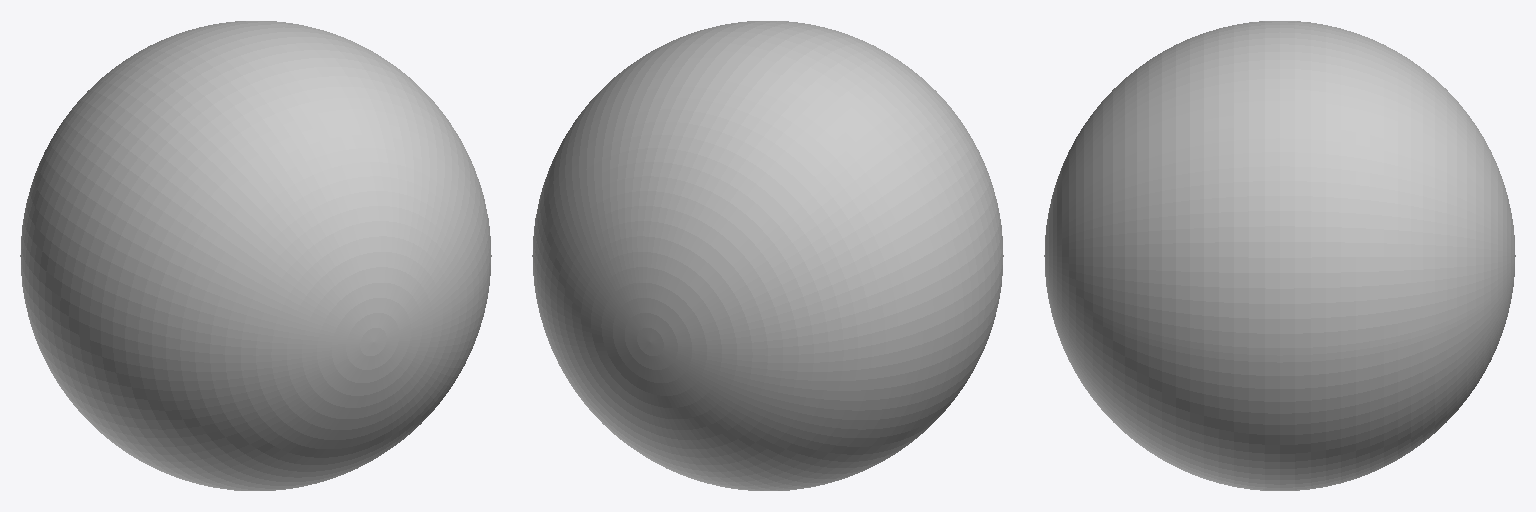
The model's file is tmpcharacter.obj.
3 renders of one model, left to right at view 1: azimuth 30°, elevation 25°; view 2: azimuth 150°, elevation 25°; view 3: azimuth 270°, elevation 25°, orthographic.
Parts seen in each view (by area): view 1: MeshBody1; view 2: MeshBody1; view 3: MeshBody1.
Boxes of the visible parts, box(x1,y1,x2,y2) form: MeshBody1: box(20, 21, 491, 490); MeshBody1: box(532, 21, 1003, 490); MeshBody1: box(1044, 21, 1515, 490).
Size of the model in its own units: 40 by 39.99 by 40.